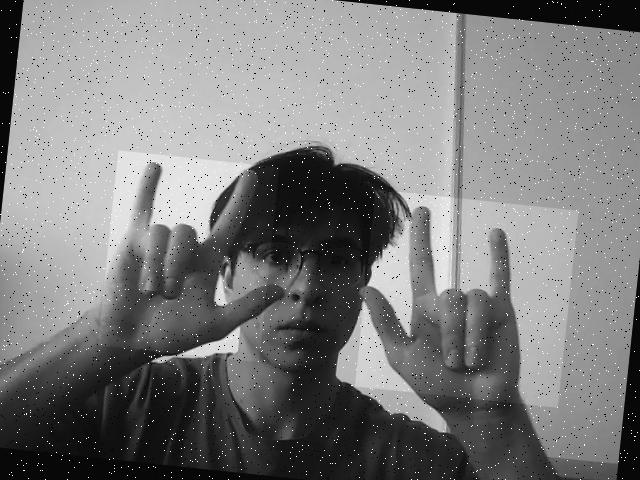I_Love_You: (354, 189, 578, 408), (98, 151, 280, 362)
